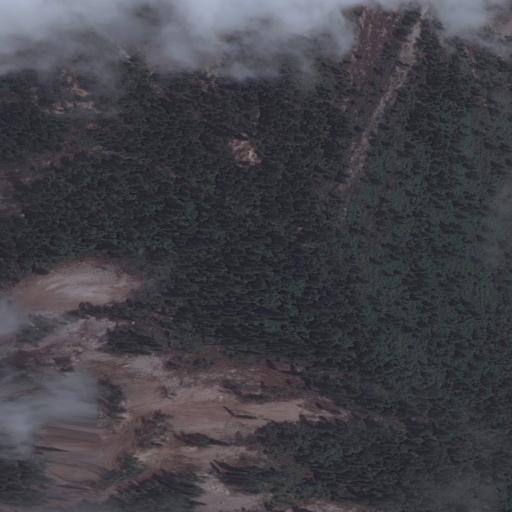landslide: (15, 259, 348, 512)
